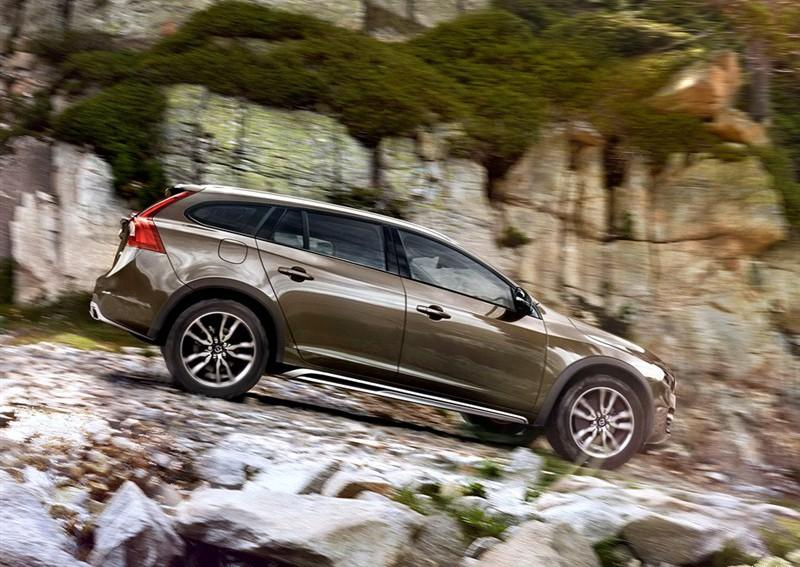Wagon: (81, 177, 684, 475)
